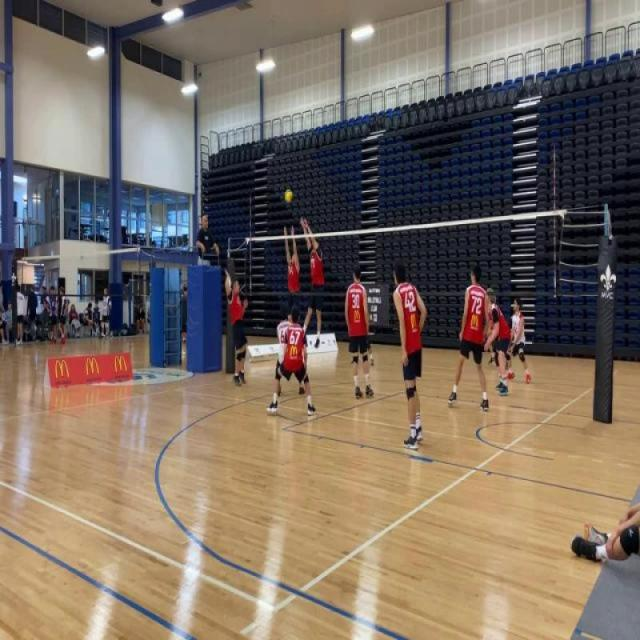volleyball: (282, 187, 294, 206)
